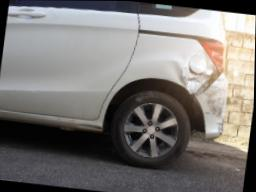Bumper: (195, 68, 231, 139)
Fender: (156, 38, 216, 94)
